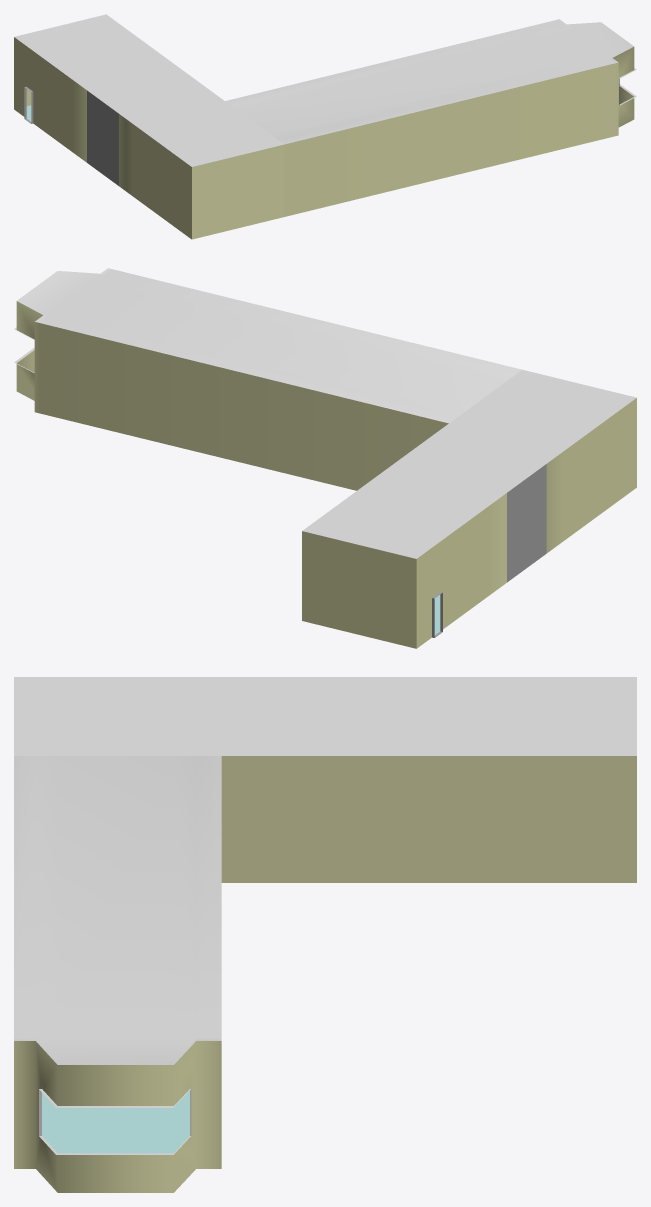
The model's file is last_kitchen_test.fbx.
The picture shows the model from 3 angles, top to bottom: view 1: azimuth 30°, elevation 25°; view 2: azimuth 150°, elevation 25°; view 3: azimuth 270°, elevation 25°; orthographic projection. The views are drawn at different scales.
Visible parts, largest first — view 1: kitchen, baywindow; view 2: kitchen, baywindow; view 3: kitchen, baywindow.
Part boxes in pixels (x1=…): kitchen: x1=14, y1=14, x2=614, y2=239; baywindow: x1=555, y1=19, x2=636, y2=136; kitchen: x1=39, y1=269, x2=636, y2=648; baywindow: x1=14, y1=268, x2=112, y2=413; kitchen: x1=14, y1=677, x2=636, y2=1153; baywindow: x1=14, y1=1037, x2=221, y2=1192.
Bounding box in the file's own units: 2981 × 453 × 2000.
